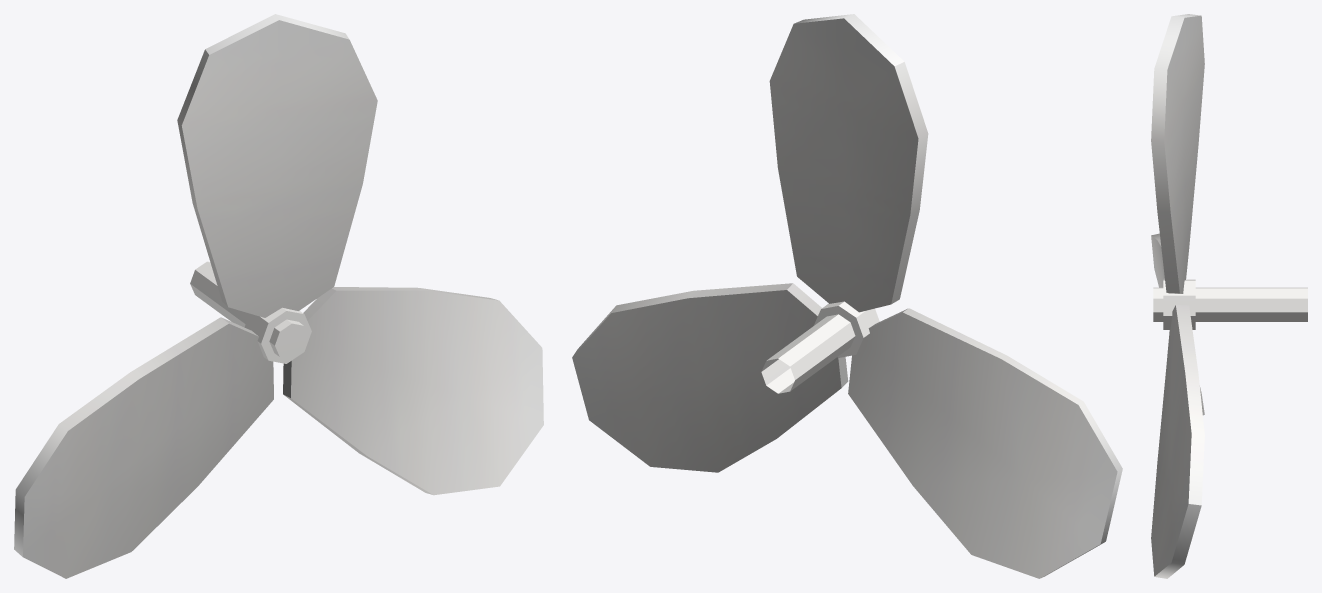
The model's file is DeskFanBlades.fbx.
The picture shows the model from 3 angles, left to right: view 1: azimuth 30°, elevation 25°; view 2: azimuth 150°, elevation 25°; view 3: azimuth 270°, elevation 25°; orthographic projection. The views are drawn at different scales.
Parts seen in each view (by area): view 1: DeskFanBlades; view 2: DeskFanBlades; view 3: DeskFanBlades.
Part boxes in pixels (x1,y1,x2,y2): DeskFanBlades: [14, 14, 543, 578]; DeskFanBlades: [572, 14, 1122, 578]; DeskFanBlades: [1151, 14, 1307, 578].
Size of the model in its own units: 31.53 by 28.88 by 8.72.
